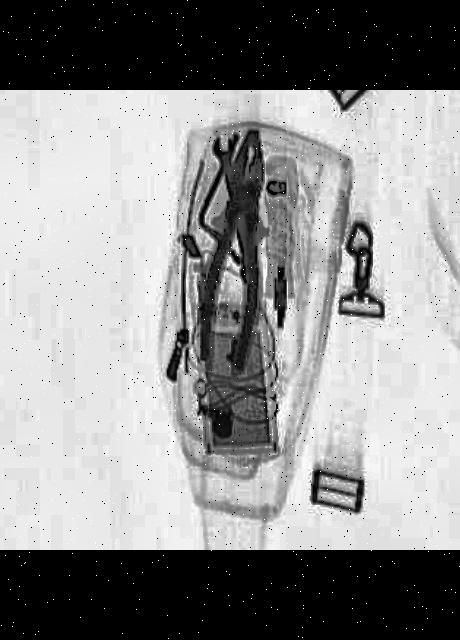Pliers: (188, 129, 280, 375)
Wrench: (205, 140, 259, 288)
